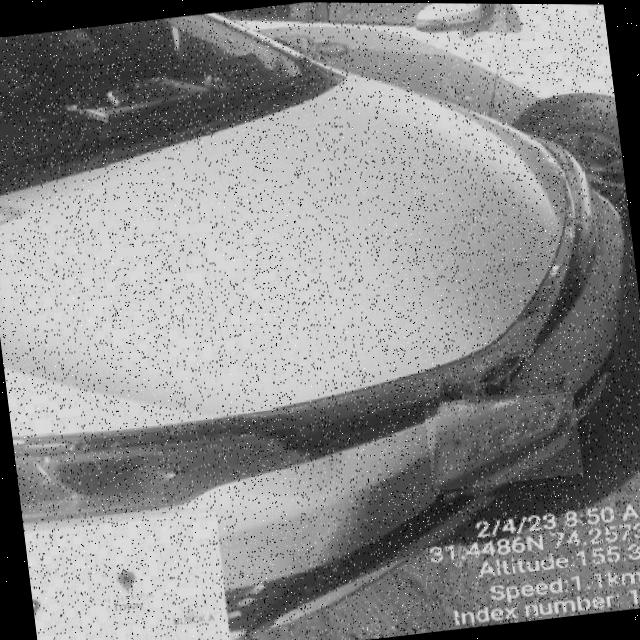LicensePlate: (434, 391, 574, 490)
